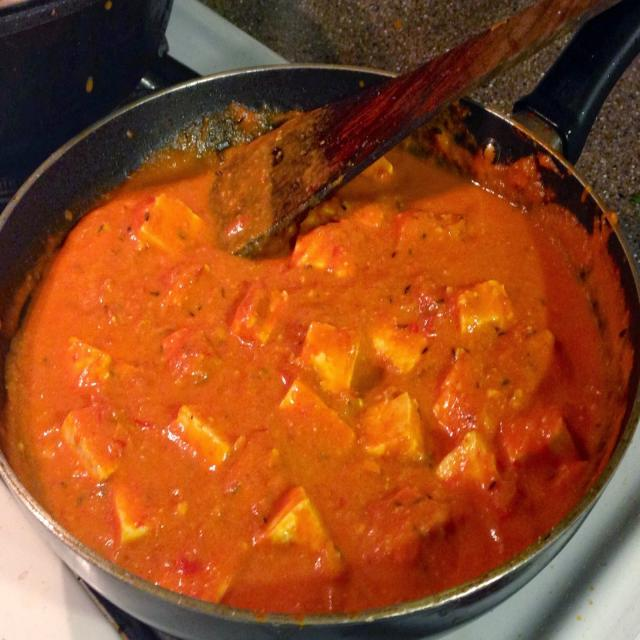ShahiPaneer: (7, 126, 640, 640)
